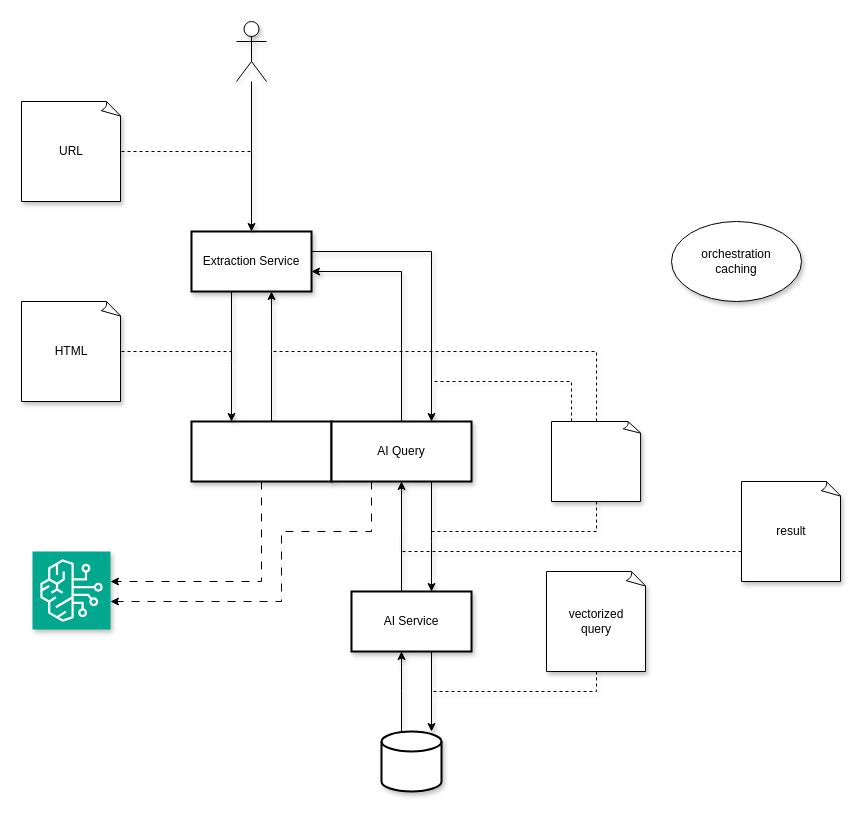
The diagram is 865 pixels wide and 817 high, and some of its shapes have lost their labels. The shapes that lost their labels are listed below. From the top down, each one's centre as x and y in pixels, then its label:
At point 252,52: "Actor".
At point 262,452: "AI Extraction".
At point 597,462: "structured data".
At point 412,762: "Vector DB".
